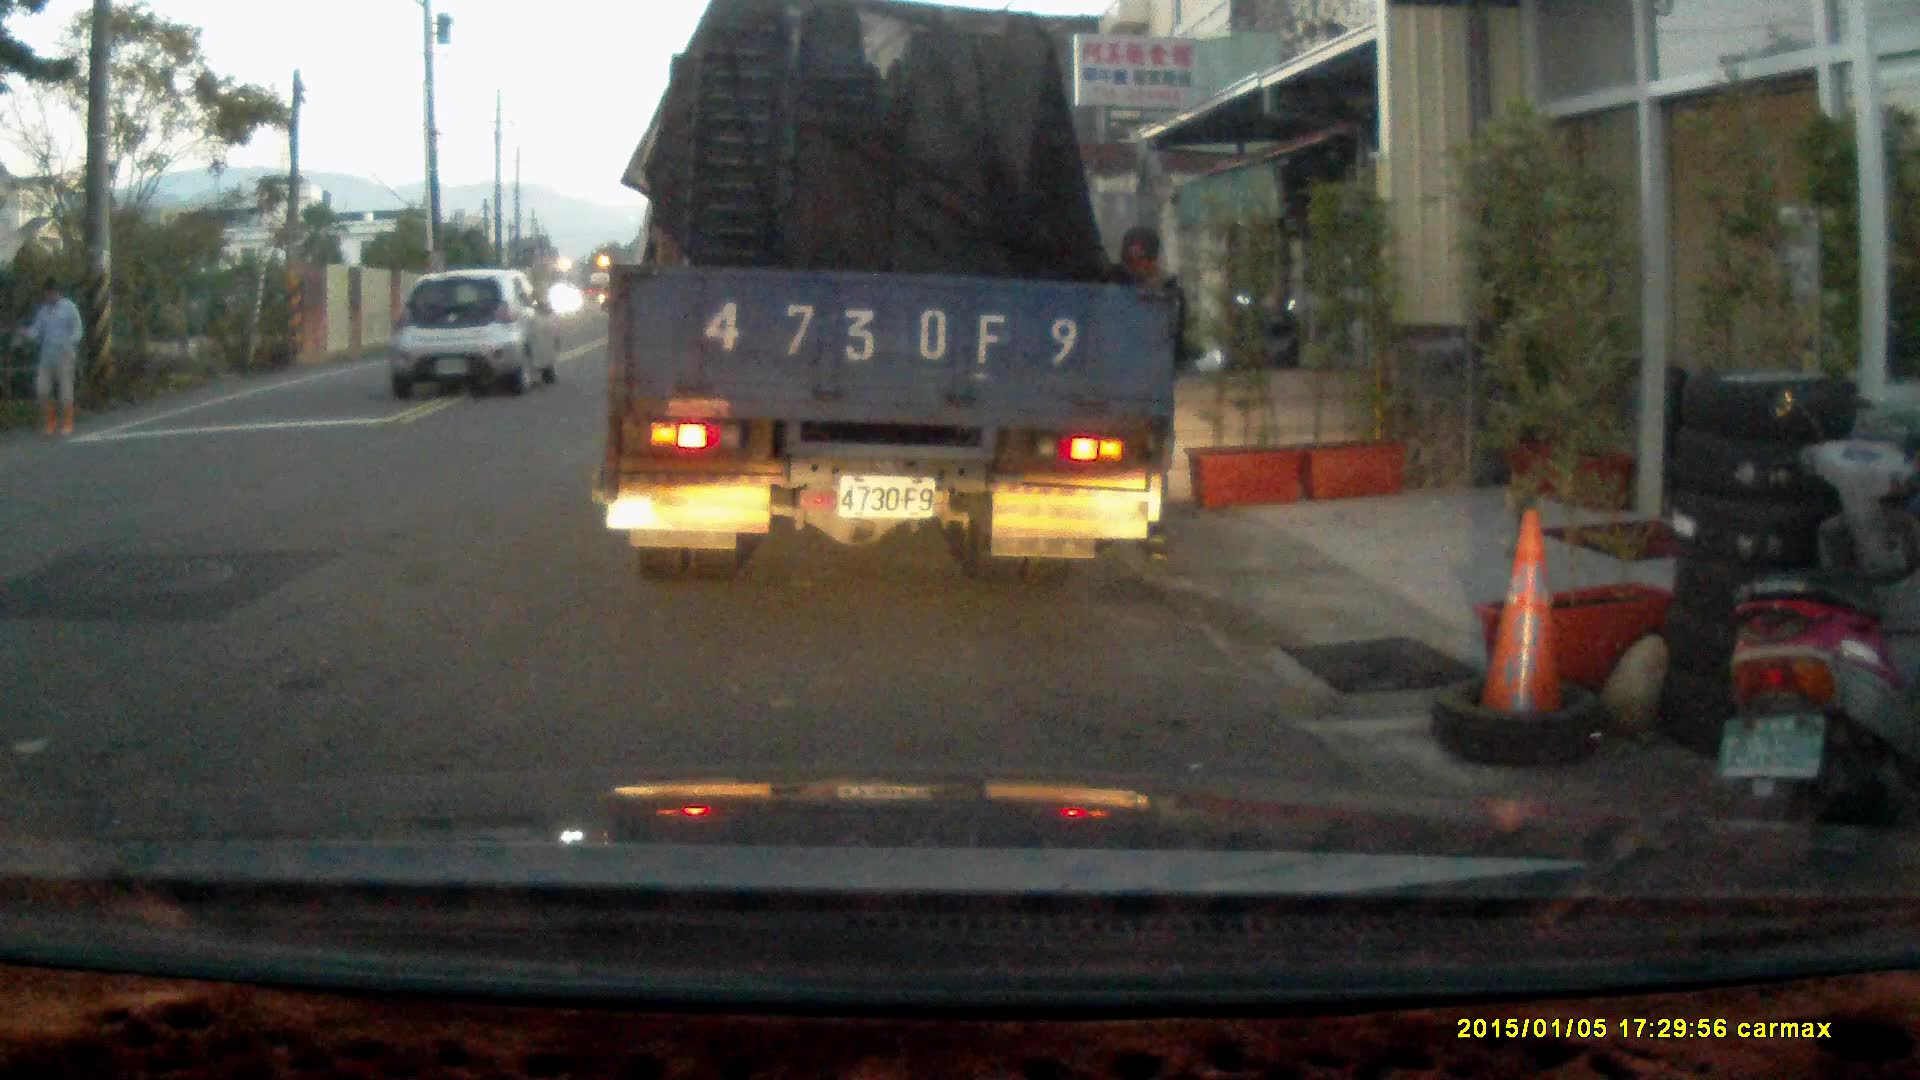pedestrian: (1086, 216, 1188, 566), (12, 279, 87, 437)
vehicle: (603, 23, 1187, 572), (383, 264, 560, 401)
